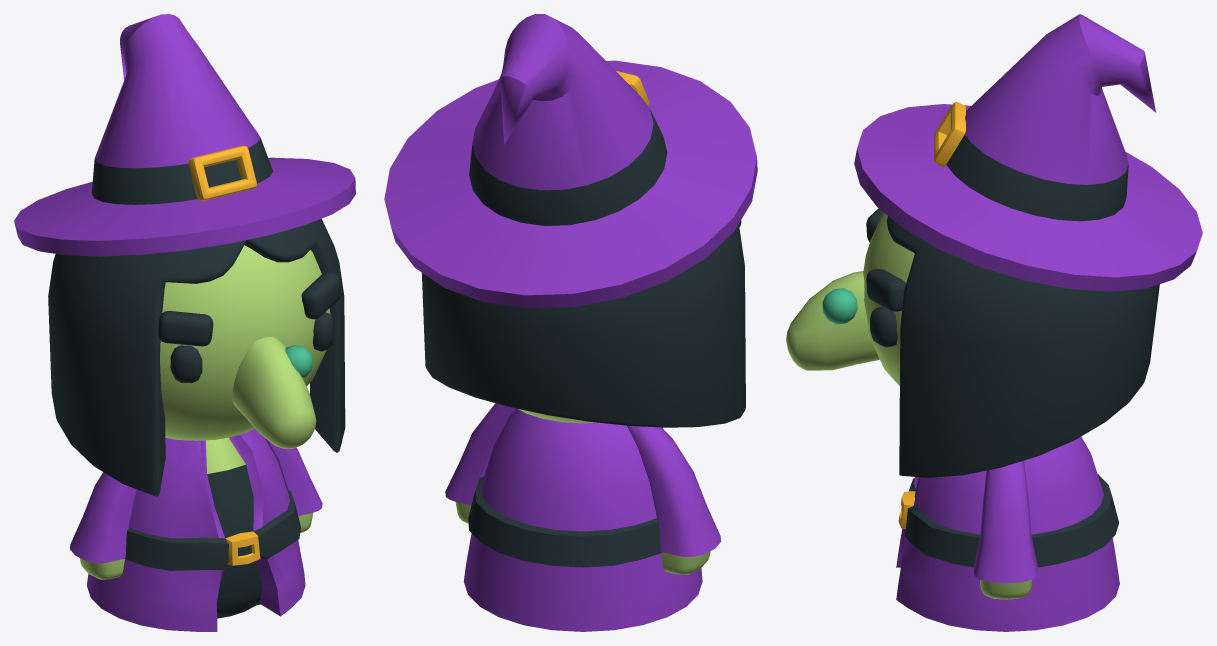
Rendered from witch-transformed.glb.
3 renders of one model, left to right at view 1: azimuth 30°, elevation 25°; view 2: azimuth 150°, elevation 25°; view 3: azimuth 270°, elevation 25°, orthographic. The views are drawn at different scales.
Visible parts, largest first — view 1: character_witch.001, character_witchHead; view 2: character_witch.001; view 3: character_witch.001, character_witchHead.
Boxes of the visible parts, x1,y1,x2,y2 form: character_witch.001: [14, 14, 355, 631]; character_witchHead: [285, 345, 313, 378]; character_witch.001: [384, 14, 757, 631]; character_witch.001: [786, 14, 1202, 631]; character_witchHead: [822, 288, 857, 324].
Size of the model in its own units: 1.23 by 2.18 by 1.44.
Materials: 3 (3 with a texture image).
